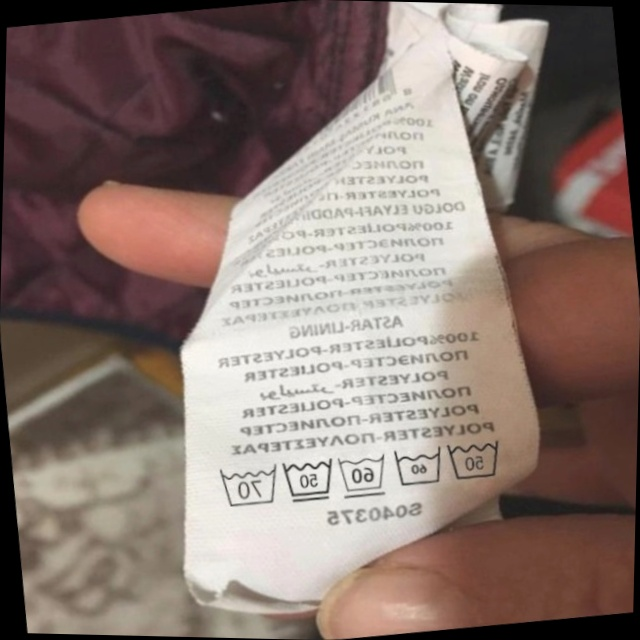50C: (439, 428, 511, 489), (275, 450, 340, 510)
60C: (330, 445, 392, 503), (386, 439, 449, 495)
70C: (210, 457, 282, 514)
